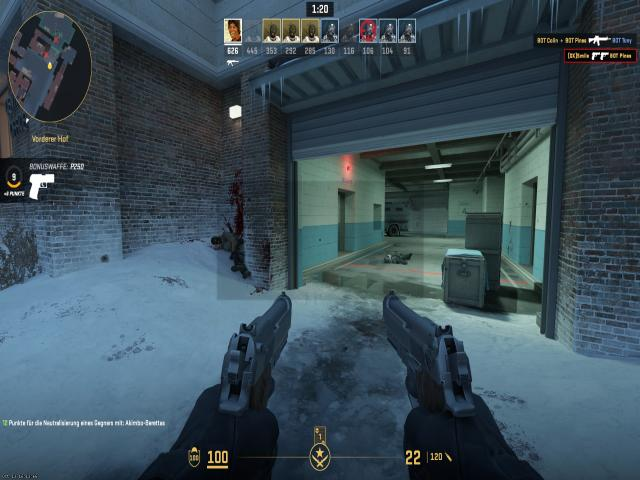Dead: (210, 228, 256, 284), (381, 250, 417, 264)
